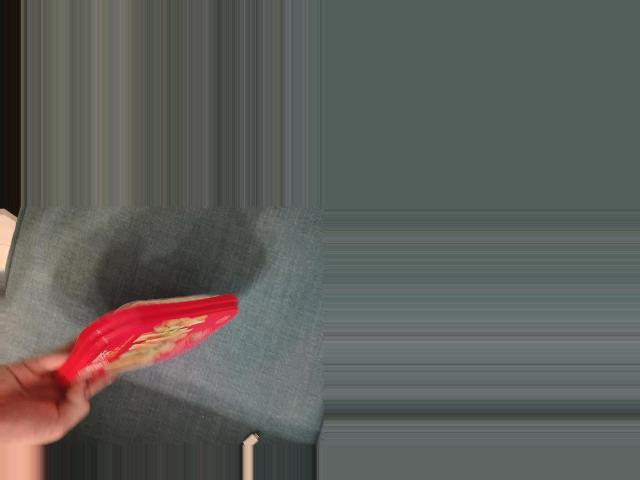cheese: (65, 290, 236, 388)
